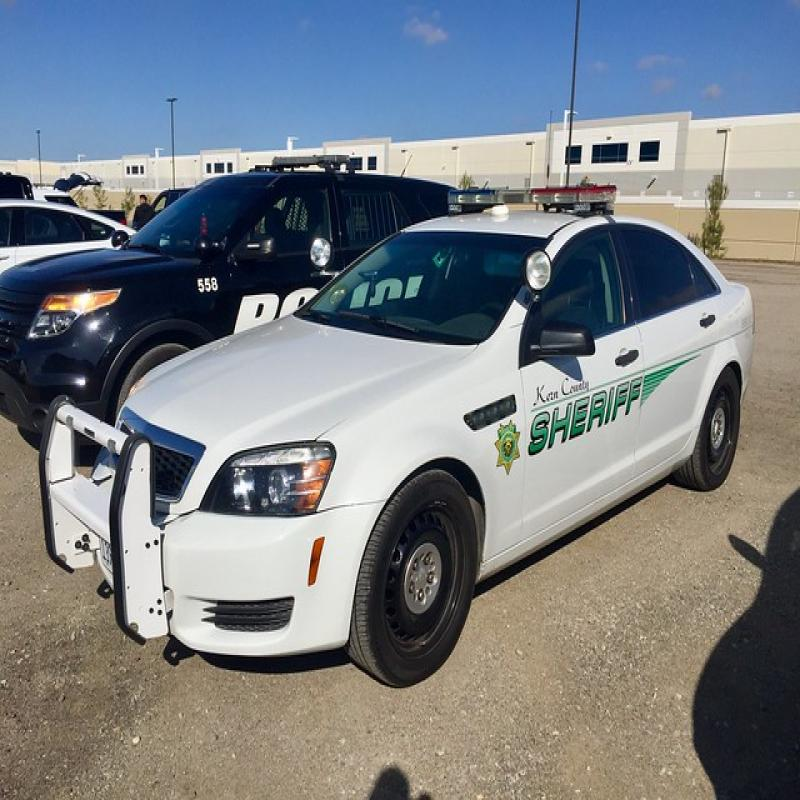AmbulanceSiren: (414, 159, 617, 228)
